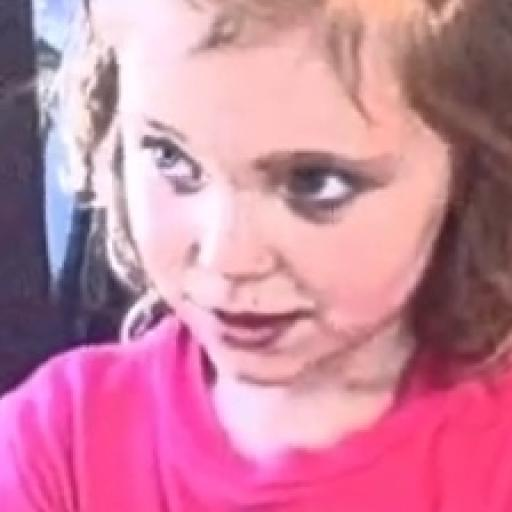Autism: (52, 0, 466, 431)
